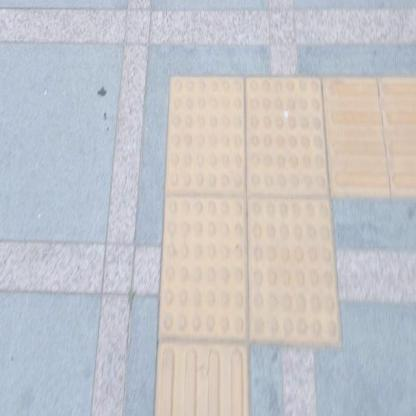podotacti: (134, 47, 357, 379), (333, 79, 415, 208), (147, 351, 251, 416)
